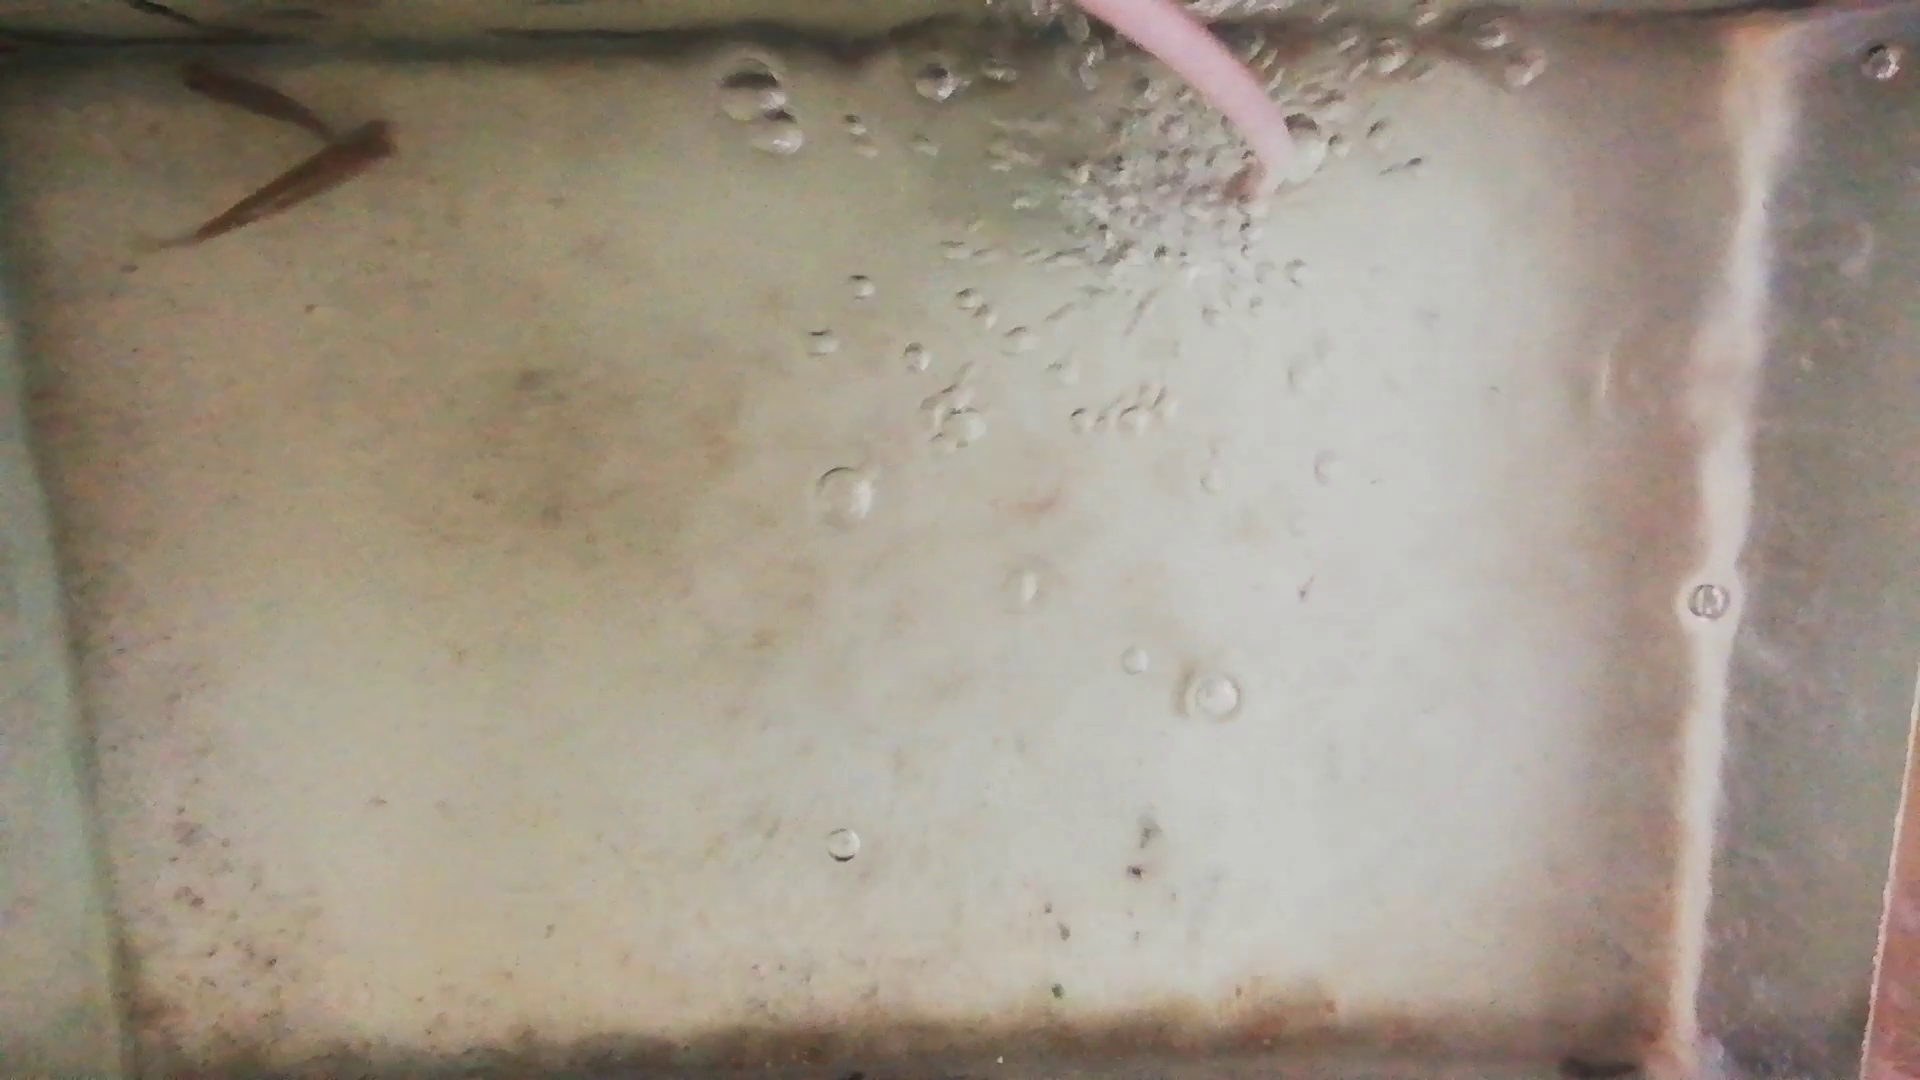fish: (196, 119, 407, 243), (167, 54, 330, 138)
